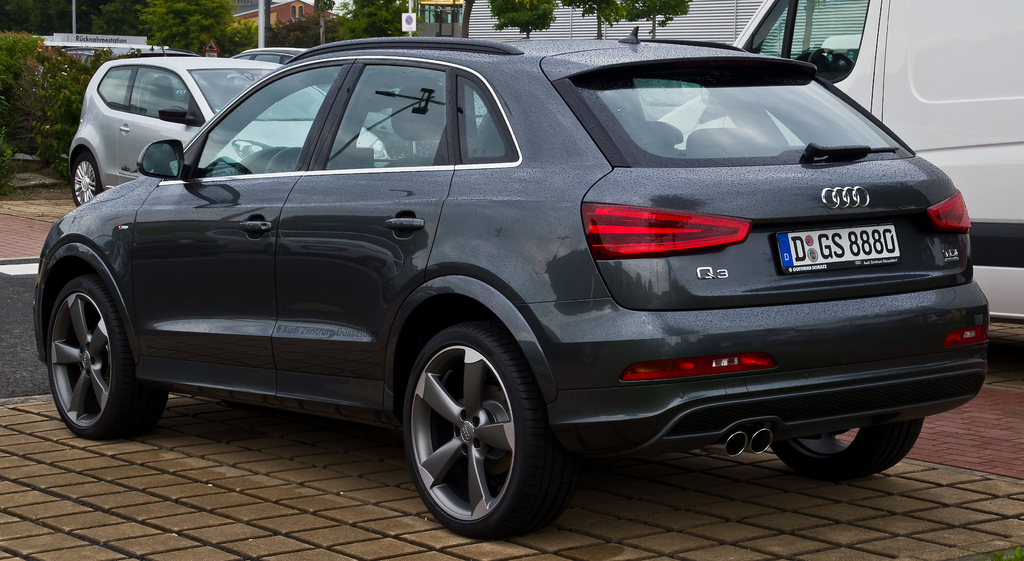Car: (32, 36, 988, 514), (69, 49, 375, 199), (224, 41, 408, 149)
